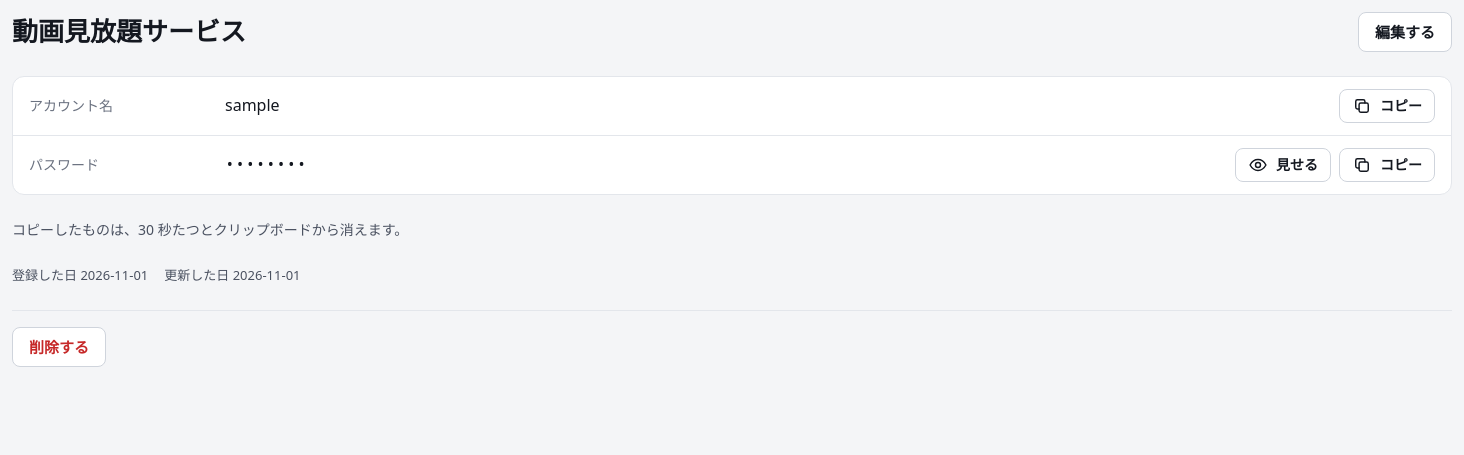
Test: 詳細の面 › コピーできなければ、もう一度押すよう知らせる
Click the button with aria-label "パスワードをコピー": x=1387, y=165 [1339,148,1435,182]
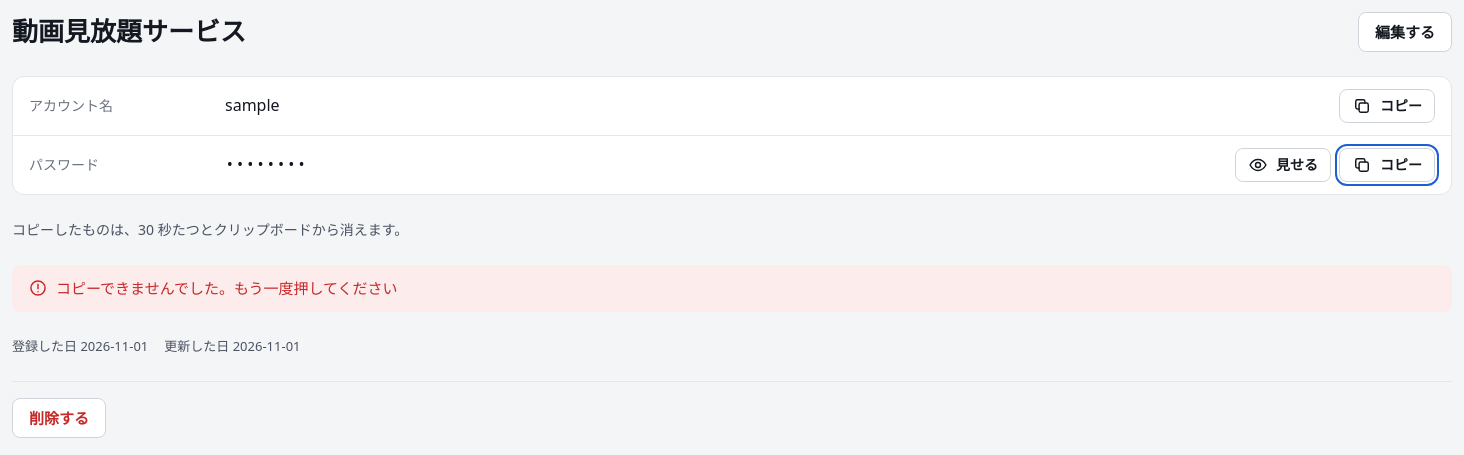
Now the message "コピーできませんでした。もう一度押してください" is shown, box [12,265,1452,312]
